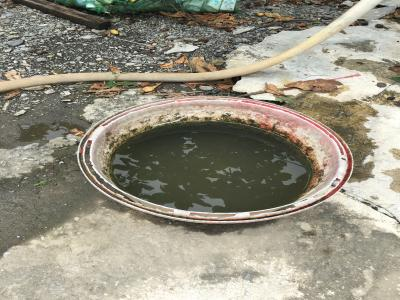bowl: (72, 93, 355, 228)
